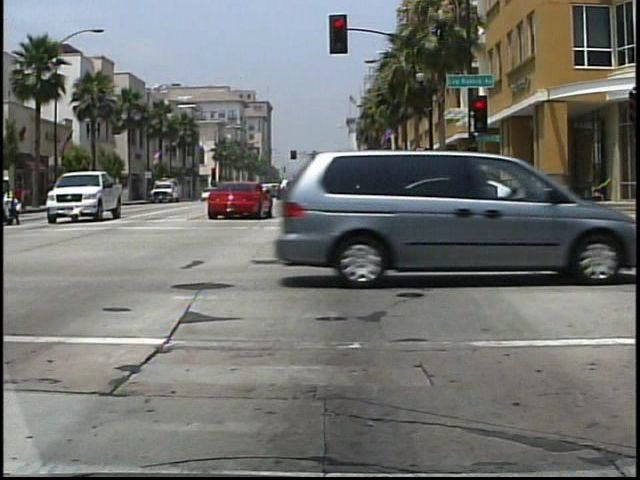person: (3, 171, 29, 229)
